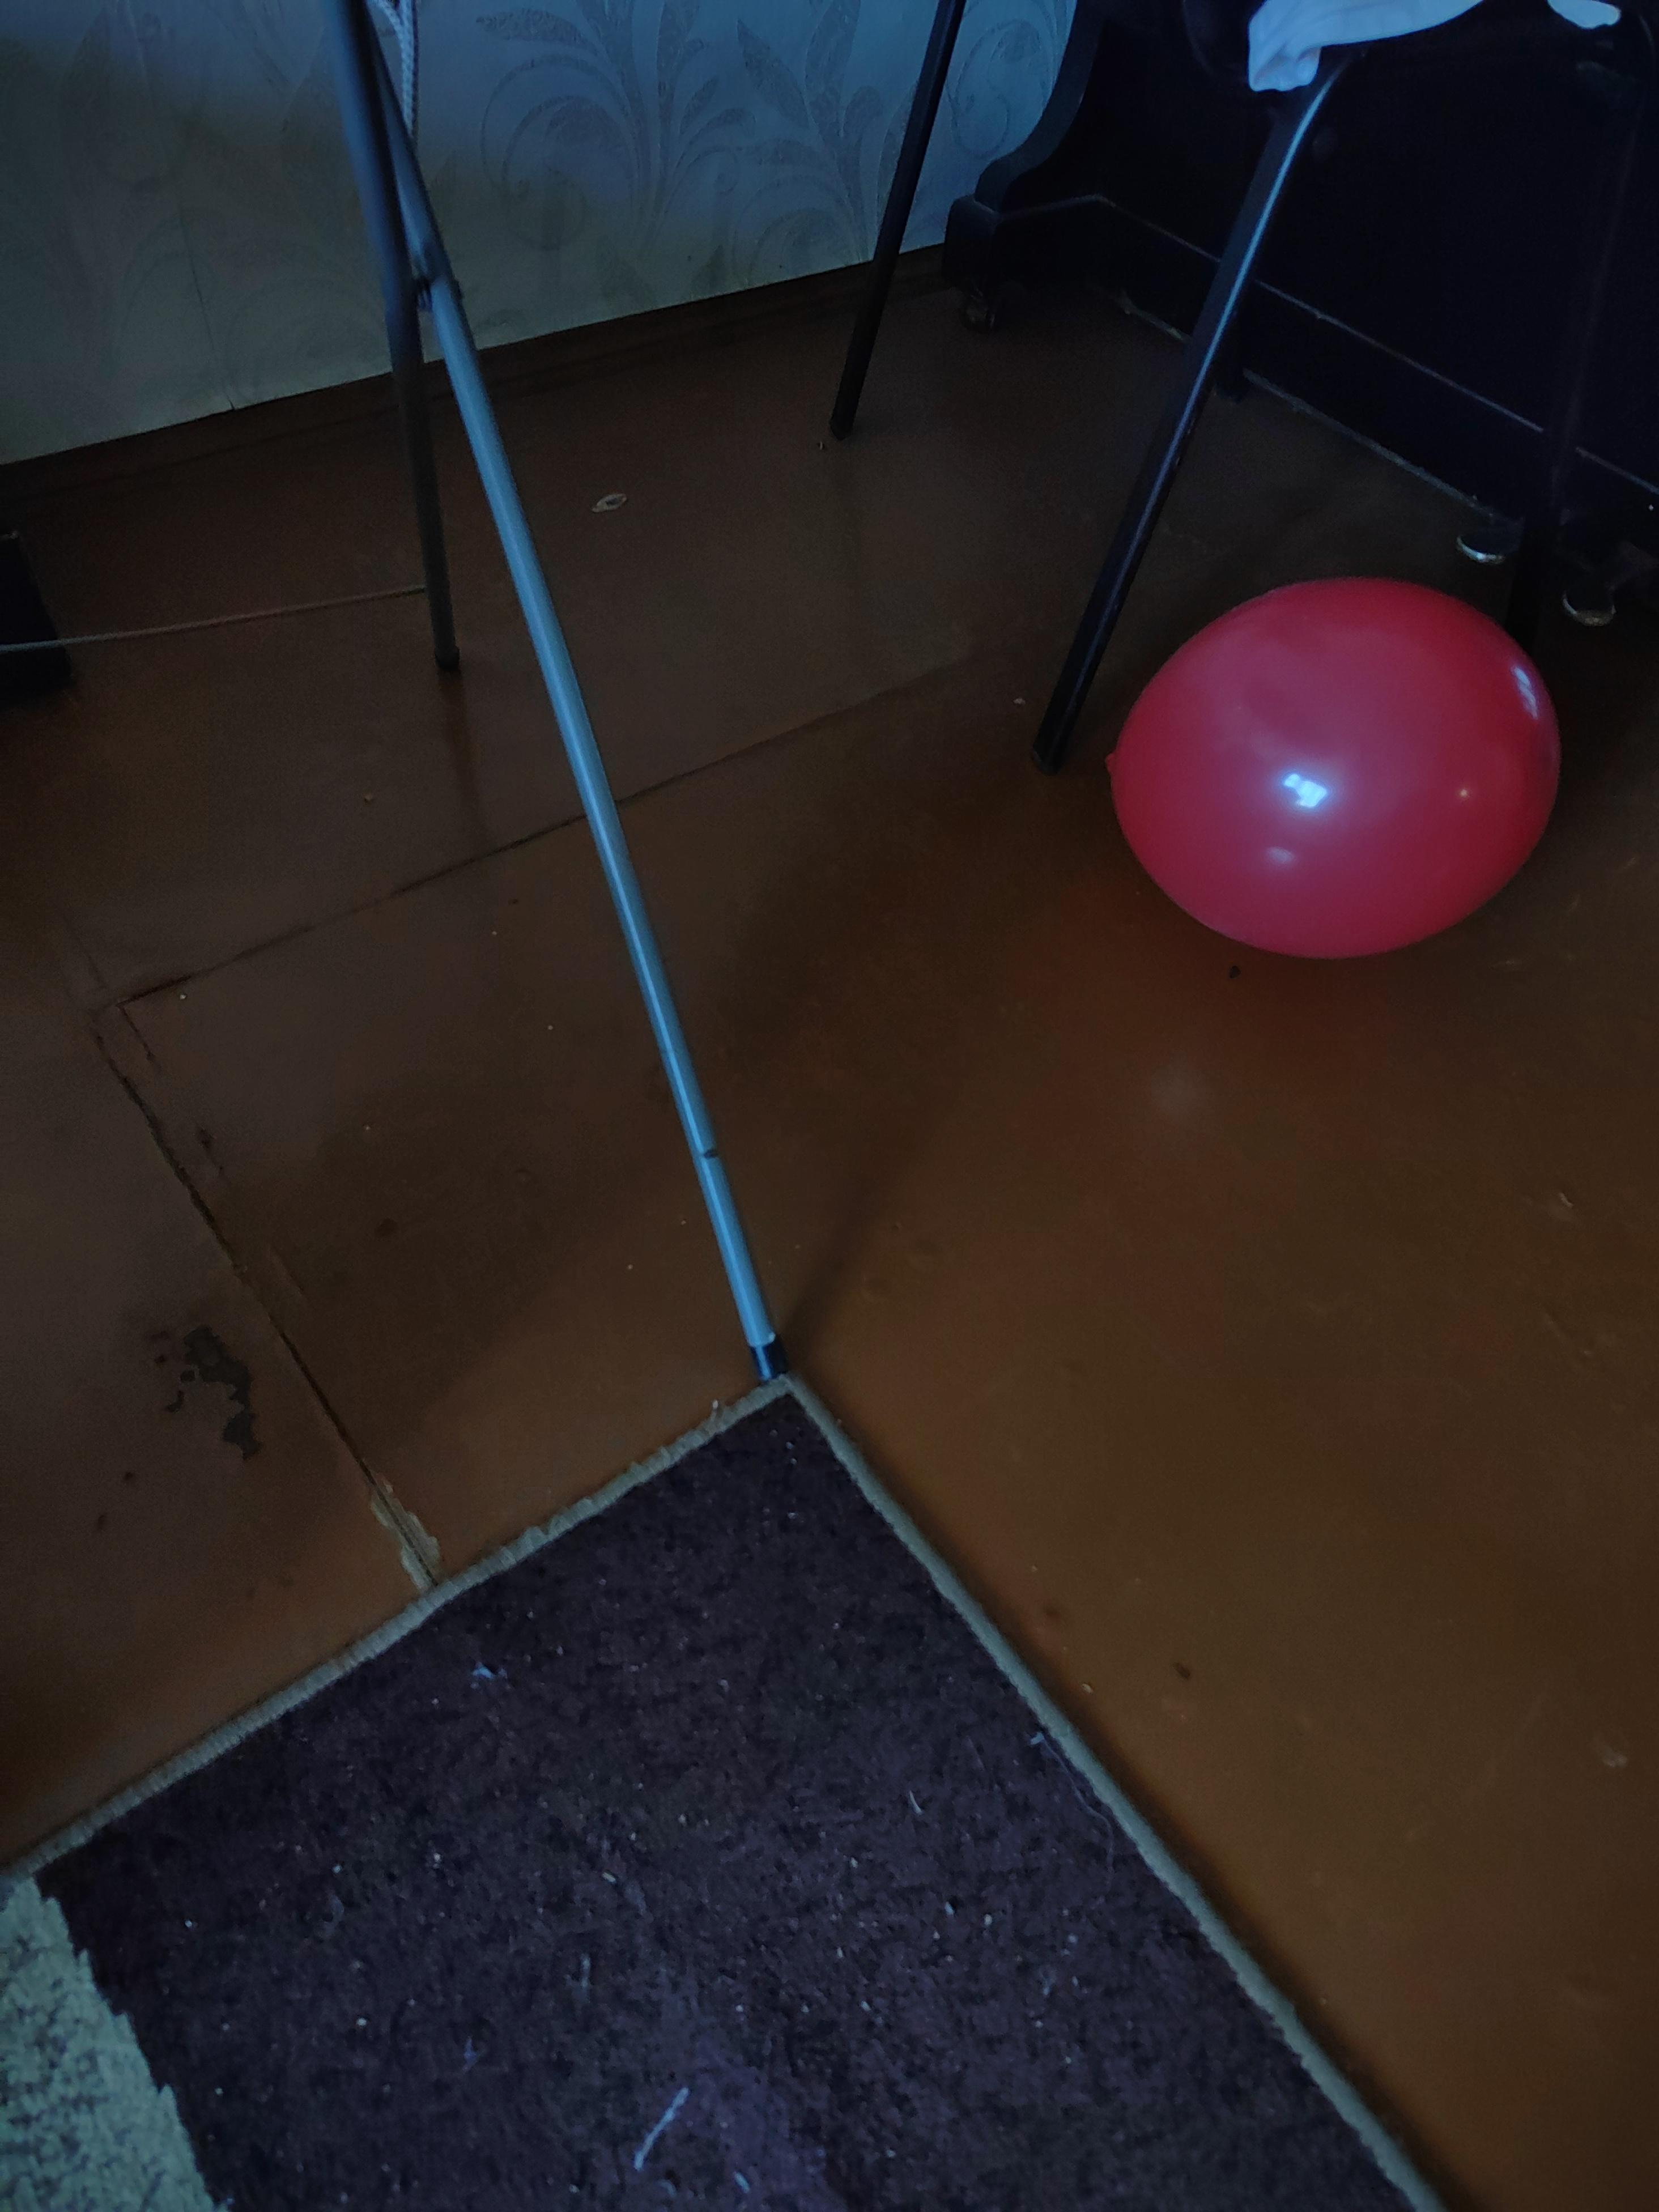red: (1077, 550, 1574, 986)
